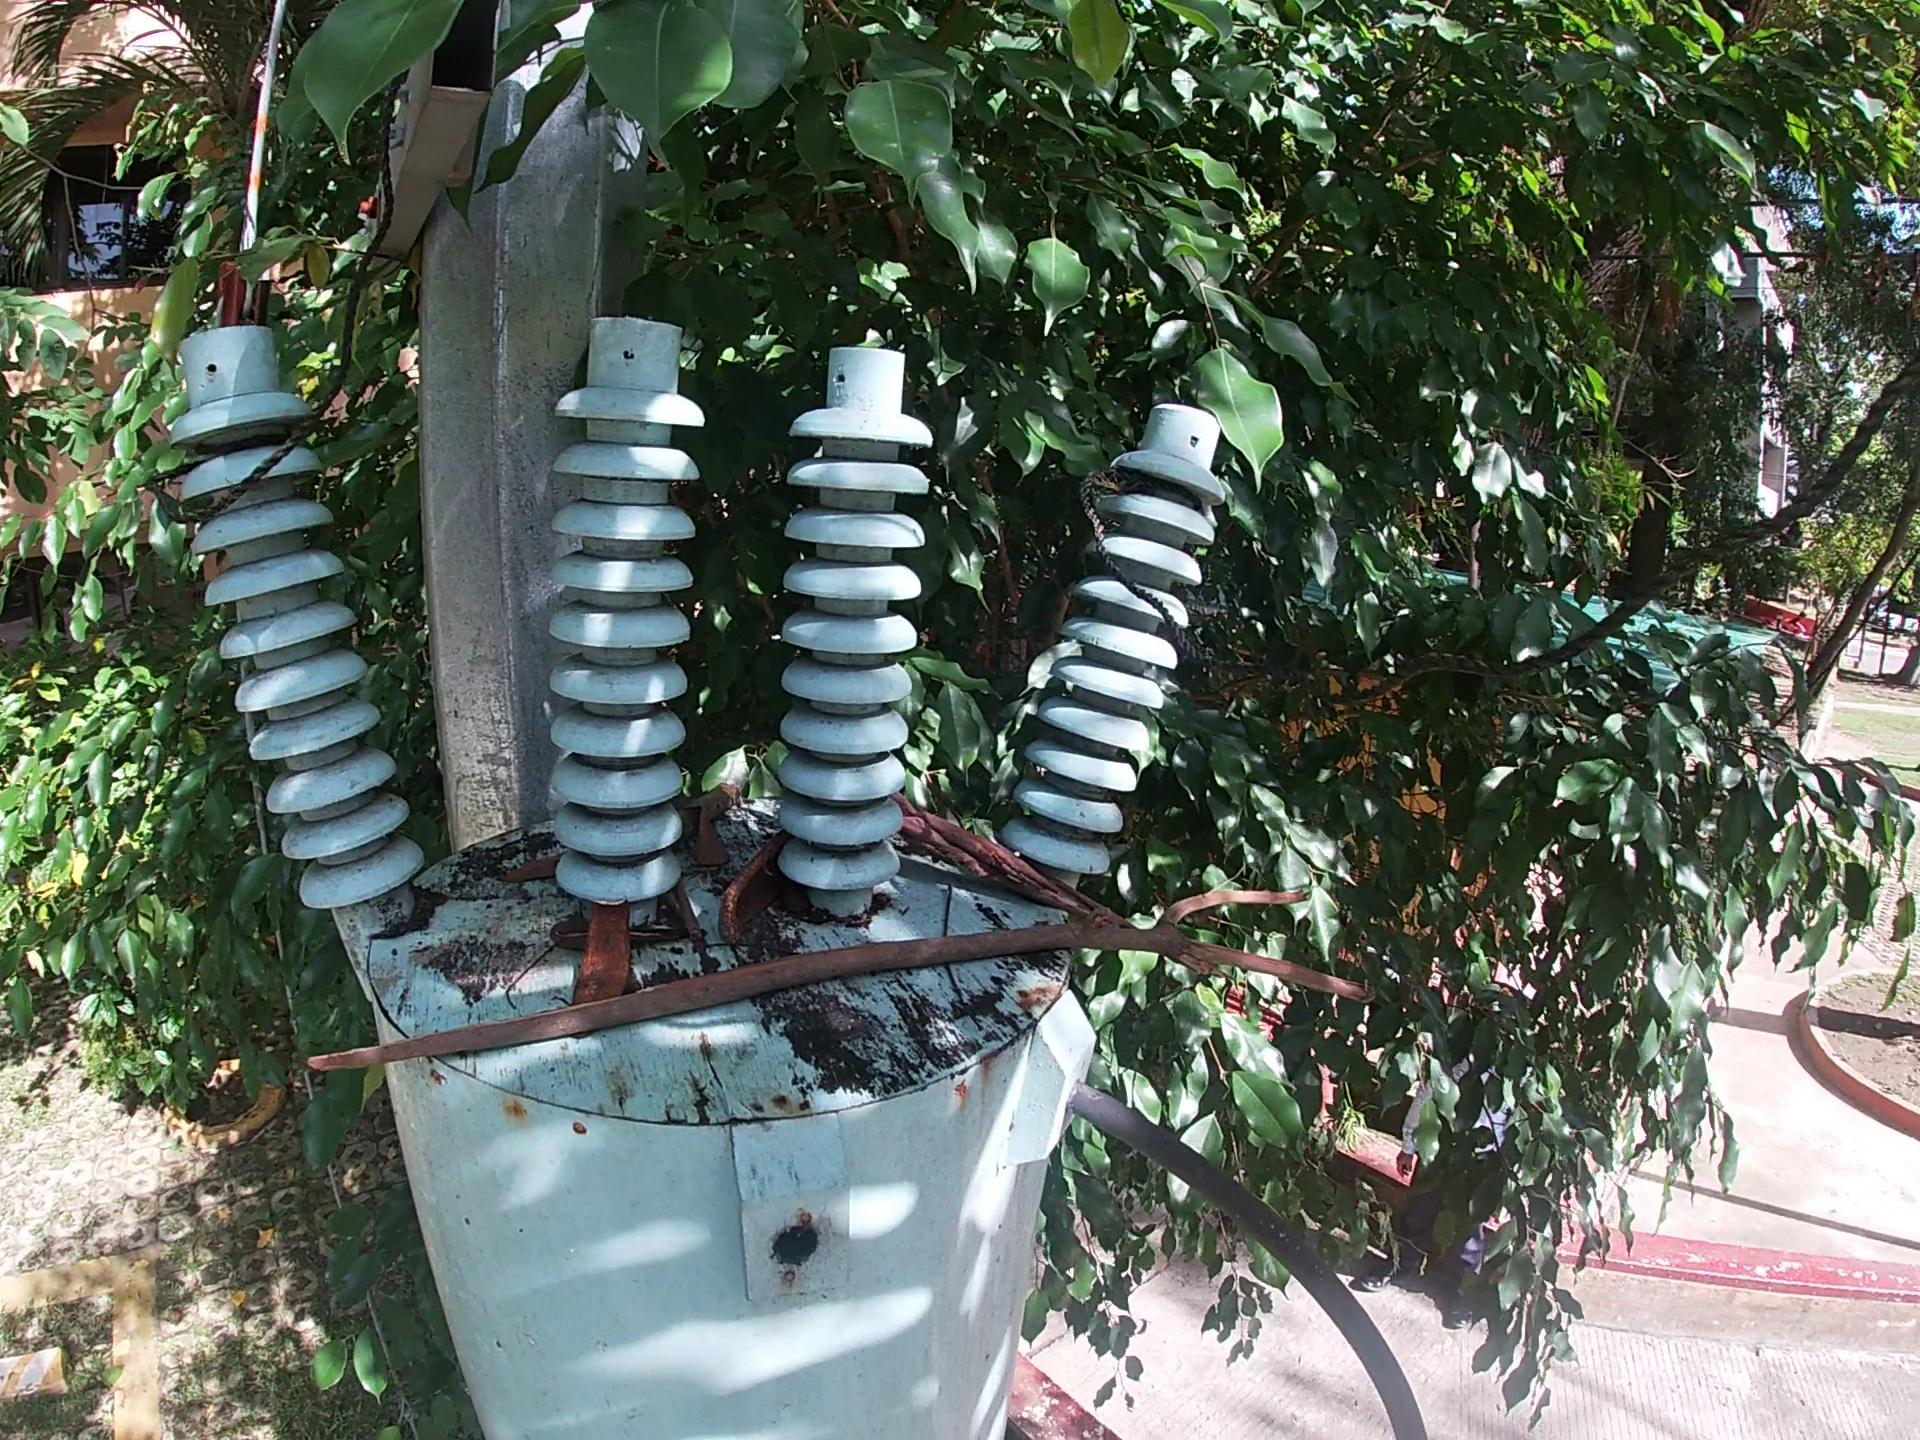leaf: (691, 809, 732, 868), (509, 849, 562, 889)
mahogany fruit: (556, 895, 644, 1006), (705, 846, 780, 964)
tree branch: (299, 883, 1364, 1088), (897, 799, 1116, 930), (670, 787, 745, 865), (496, 948, 565, 1026), (934, 959, 992, 1041), (633, 914, 682, 968), (668, 895, 718, 942), (927, 886, 971, 932), (549, 912, 590, 951)
